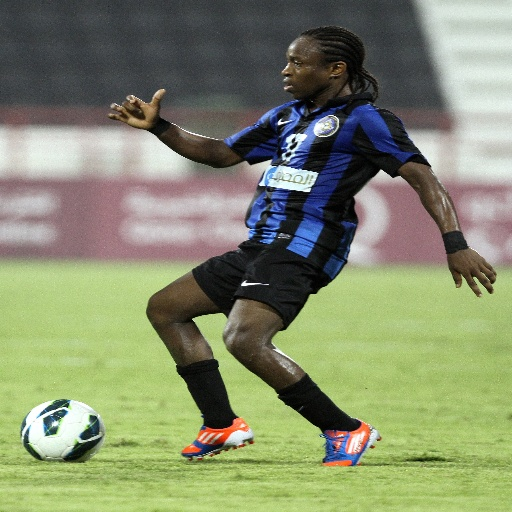hand: (100, 84, 173, 142), (446, 248, 496, 296)
